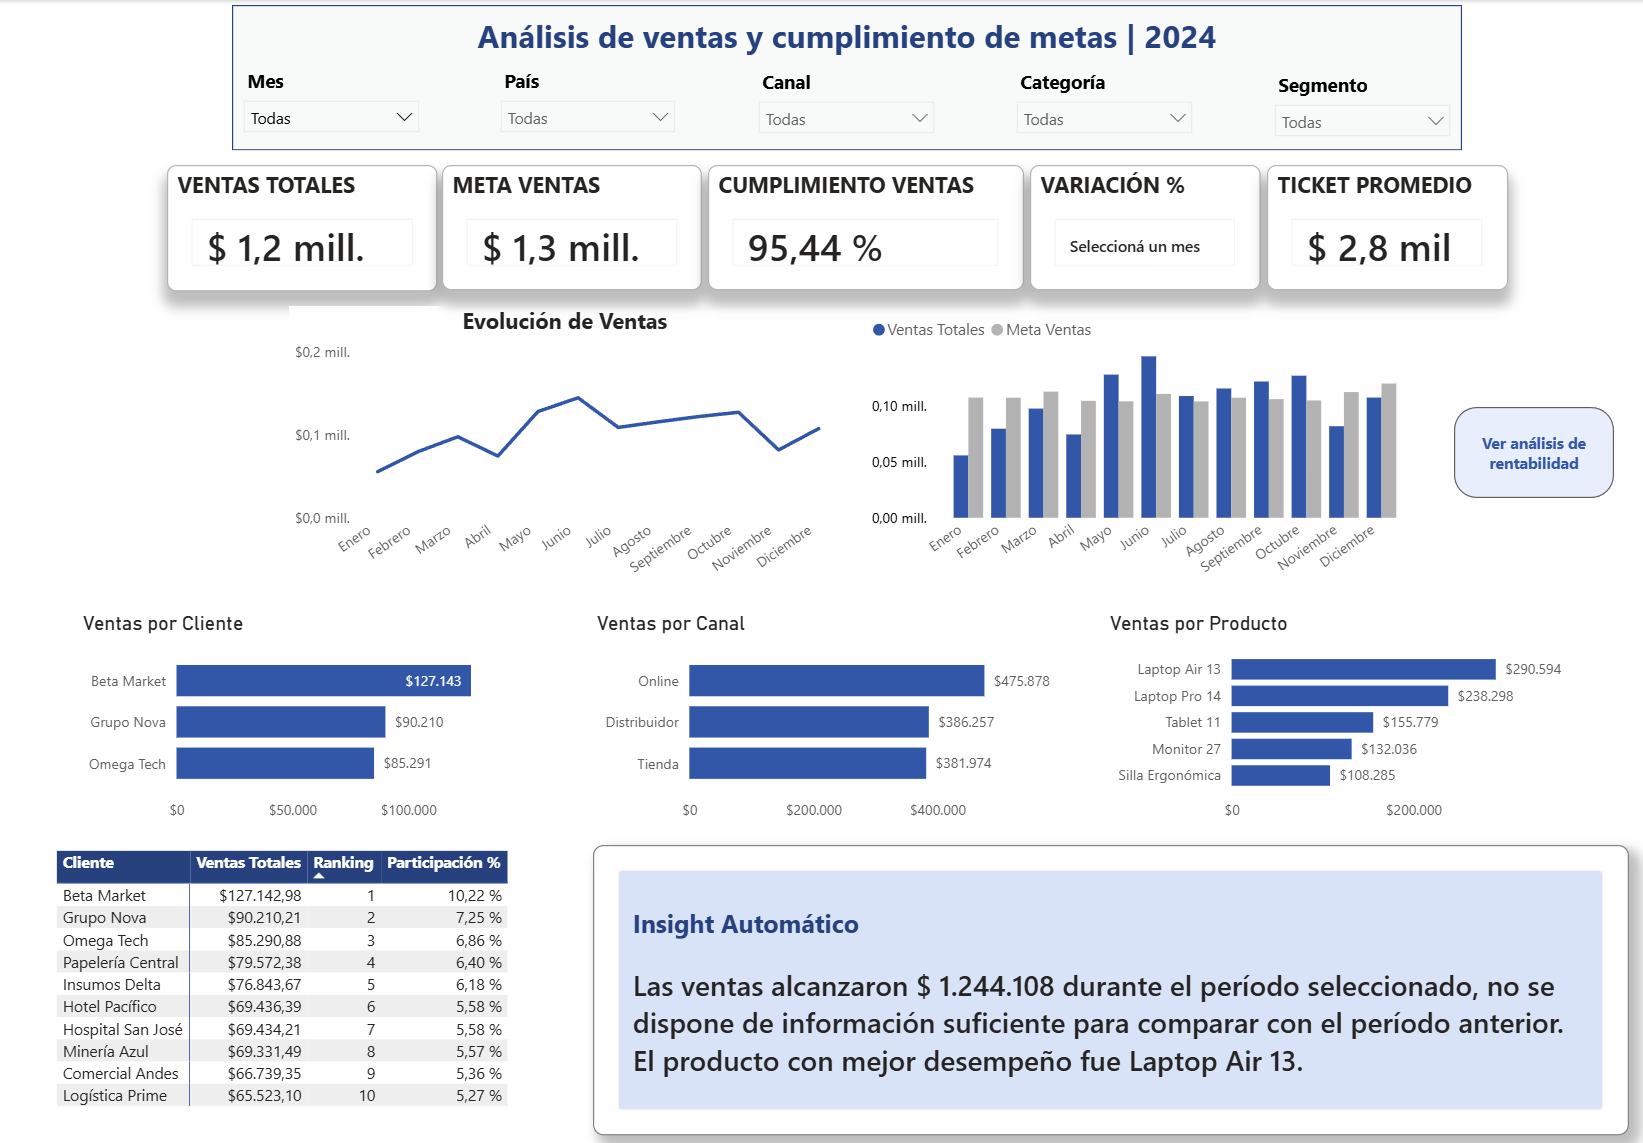

The page's visual inventory and layout, read from the dashboard file:
{"tool":"powerbi","page":{"name":"Resumen ejecutivo","canvas":[1408,985],"ordinal":0},"visuals":[{"type":"shape","box":[199.8,4,1050.8,124.2],"z":0},{"type":"textbox","box":[199.8,6.7,1050.8,53.7],"z":1000},{"type":"slicer","fields":{"Values":["Tabla Calendario.NombreMesLargo"]},"box":[199.8,53,169.9,65.5],"z":1000,"group":"g1"},{"type":"group","id":"g1","title":"Grupo 1","box":[199.8,53,1051.3,70],"z":2000},{"type":"slicer","fields":{"Values":["TblDimClienteDirty.Pais"]},"box":[419.7,53,169,65],"z":2000,"group":"g1"},{"type":"slicer","fields":{"Values":["TblDimCanalDirty.Canal"]},"box":[640.1,53.7,170.3,66.3],"z":3000,"group":"g1"},{"type":"cardVisual","title":"VENTAS TOTALES","fields":{"Data":["Medidas.Ventas_Totales"]},"box":[144,141,231,107.5],"z":3000},{"type":"lineChart","title":"Evolución de Ventas","fields":{"Category":["Tabla Calendario.NombreMesLargo"],"Y":["Medidas.Ventas_Totales"]},"box":[248.8,261.2,471.2,251.2],"z":4000},{"type":"slicer","fields":{"Values":["TblDimProductoDirty.Categoria"]},"box":[860.5,54.1,170.3,66.3],"z":5000,"group":"g1"},{"type":"cardVisual","title":"META VENTAS","fields":{"Data":["Medidas.Meta Ventas"]},"box":[379,141,222,107],"z":5000},{"type":"slicer","fields":{"Values":["TblDimClienteDirty.Segmento"]},"box":[1080.9,56.6,170.3,66.3],"z":6000,"group":"g1"},{"type":"clusteredColumnChart","title":"Ventas vs Meta","fields":{"Category":["Tabla Calendario.NombreMesLargo"],"Y":["Medidas.Ventas_Totales","Medidas.Meta Ventas"]},"box":[741.2,261,471.2,251.2],"z":6000},{"type":"barChart","title":"Ventas por Producto","fields":{"Category":["TblDimProductoDirty.Producto"],"Y":["Medidas.Ventas_Totales"]},"box":[945.1,522,419.7,188],"z":7000},{"type":"cardVisual","title":"CUMPLIMIENTO VENTAS","fields":{"Data":["Medidas.Cumplimiento Meta"]},"box":[606.4,141,269.6,107],"z":8000},{"type":"pivotTable","fields":{"Rows":["TblDimClienteDirty.Cliente"],"Values":["Medidas.Ventas_Totales","Medidas.Ranking Clientes","Medidas.Participacion Ventas %"]},"box":[45.3,721.8,446.5,248.4],"z":9000},{"type":"cardVisual","title":"VARIACIÓN %","fields":{"Data":["Medidas.Variacion % Tarjeta"]},"box":[881.6,141,196.9,107],"z":10000},{"type":"cardVisual","fields":{"Data":["Medidas.Insight Automático"]},"box":[508.6,721.8,884.6,248.4],"z":11000},{"type":"barChart","title":"Ventas por Cliente","fields":{"Category":["TblDimClienteDirty.Cliente"],"Y":["Medidas.Ventas_Totales"]},"box":[67.1,522,421.3,188],"z":12000},{"type":"cardVisual","title":"TICKET PROMEDIO","fields":{"Data":["Medidas.Ticket_Promedio"]},"box":[1084,141,205.6,107],"z":13000},{"type":"barChart","title":"Ventas por Canal","fields":{"Category":["TblDimCanalDirty.Canal"],"Y":["Medidas.Ventas_Totales"]},"box":[506.3,522,421,188],"z":14000},{"type":"actionButton","title":"Ver","box":[1243.9,347.7,136.7,77.7],"z":15000}]}

Visuals, with their boxes in screenshot pixels (x1, y1, x2, y2), scaled from the page's 1408x985 canvas onto the 1643x1143 screenshot:
shape: x1=233 y1=5 x2=1459 y2=149
textbox: x1=233 y1=8 x2=1459 y2=70
slicer - Tabla Calendario.NombreMesLargo: x1=233 y1=62 x2=431 y2=138
"Grupo 1" group: x1=233 y1=62 x2=1460 y2=143
slicer - TblDimClienteDirty.Pais: x1=490 y1=62 x2=687 y2=137
slicer - TblDimCanalDirty.Canal: x1=747 y1=62 x2=946 y2=139
"VENTAS TOTALES" cardVisual: x1=168 y1=164 x2=438 y2=288
"Evolución de Ventas" lineChart: x1=290 y1=303 x2=840 y2=595
slicer - TblDimProductoDirty.Categoria: x1=1004 y1=63 x2=1203 y2=140
"META VENTAS" cardVisual: x1=442 y1=164 x2=701 y2=288
slicer - TblDimClienteDirty.Segmento: x1=1261 y1=66 x2=1460 y2=143
"Ventas vs Meta" clusteredColumnChart: x1=865 y1=303 x2=1415 y2=594
"Ventas por Producto" barChart: x1=1103 y1=606 x2=1593 y2=824
"CUMPLIMIENTO VENTAS" cardVisual: x1=708 y1=164 x2=1022 y2=288
pivotTable - TblDimClienteDirty.Cliente x Medidas.Ventas_Totales: x1=53 y1=838 x2=574 y2=1126
"VARIACIÓN %" cardVisual: x1=1029 y1=164 x2=1259 y2=288
cardVisual - Medidas.Insight Automático: x1=593 y1=838 x2=1626 y2=1126
"Ventas por Cliente" barChart: x1=78 y1=606 x2=570 y2=824
"TICKET PROMEDIO" cardVisual: x1=1265 y1=164 x2=1505 y2=288
"Ventas por Canal" barChart: x1=591 y1=606 x2=1082 y2=824
"Ver" actionButton: x1=1452 y1=403 x2=1611 y2=494
